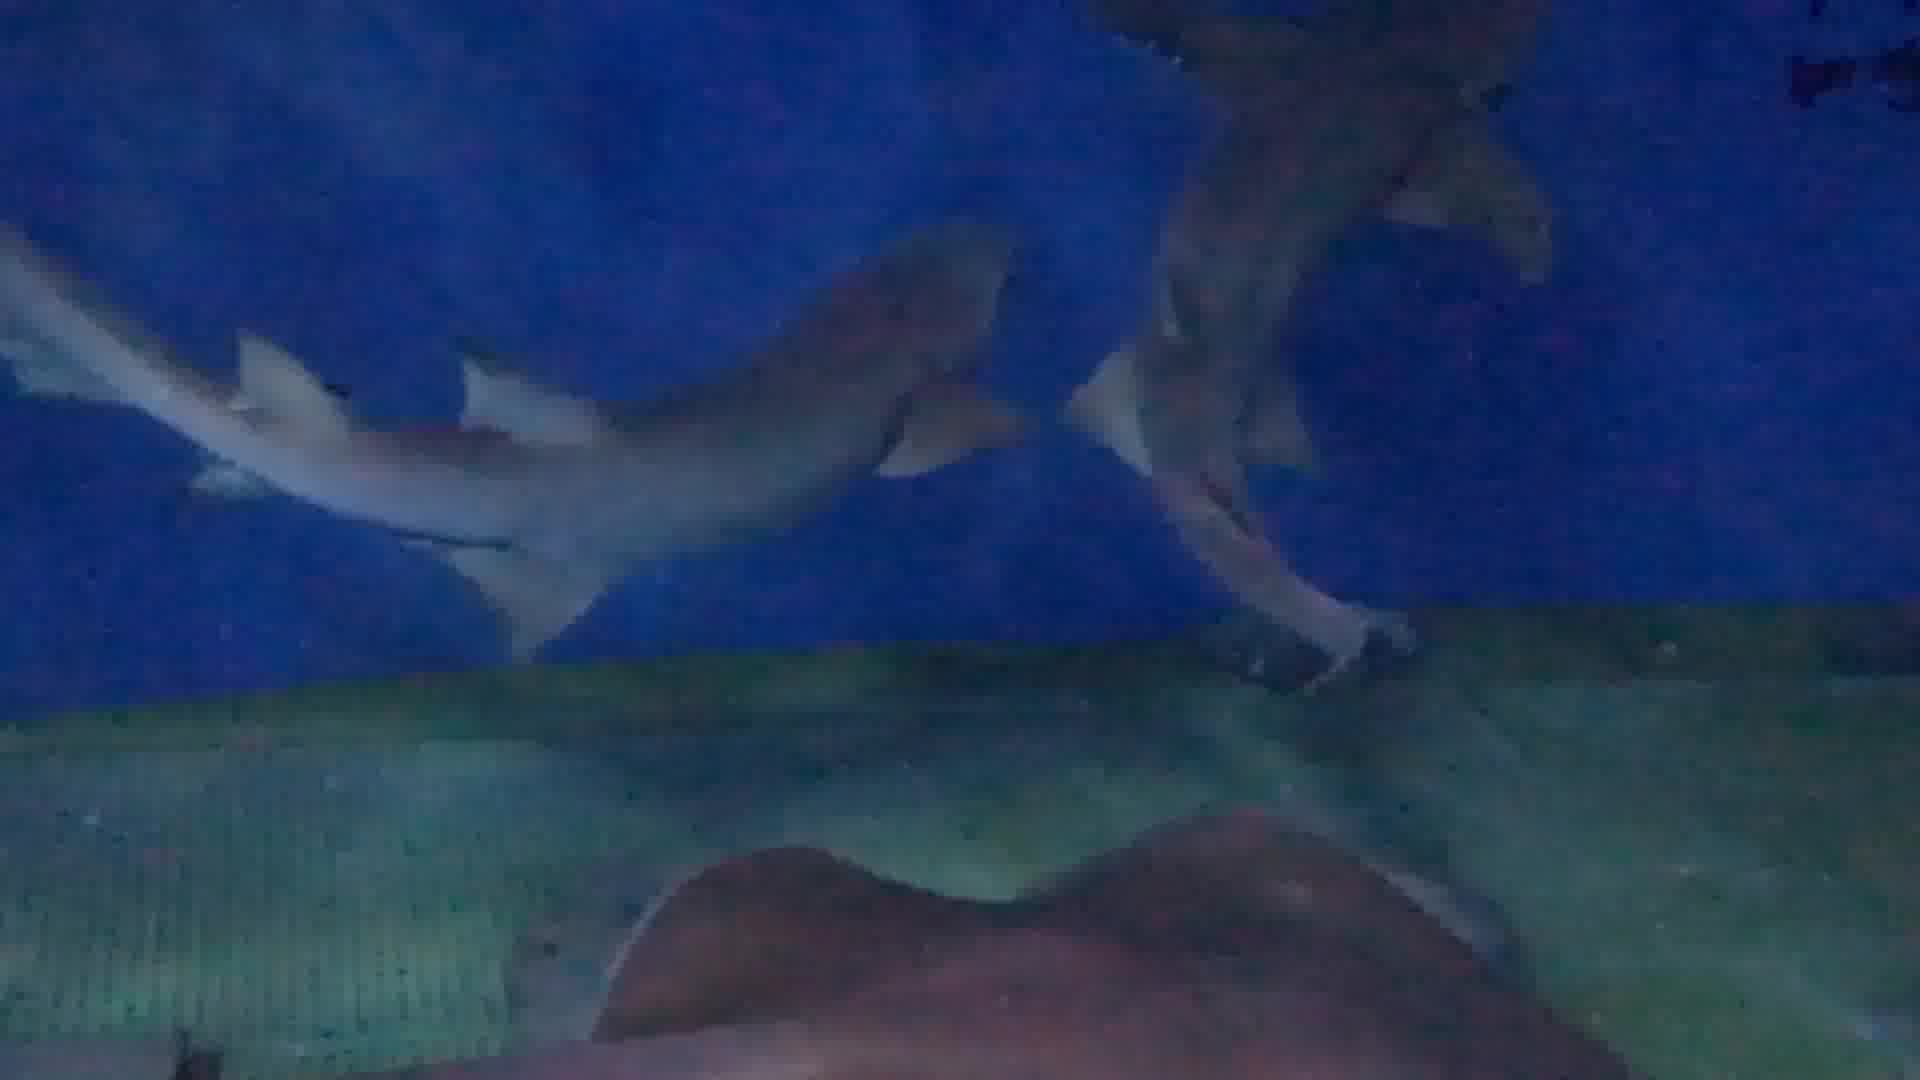Nebrius ferrugineus: (1113, 1, 1640, 674), (287, 224, 973, 611)
